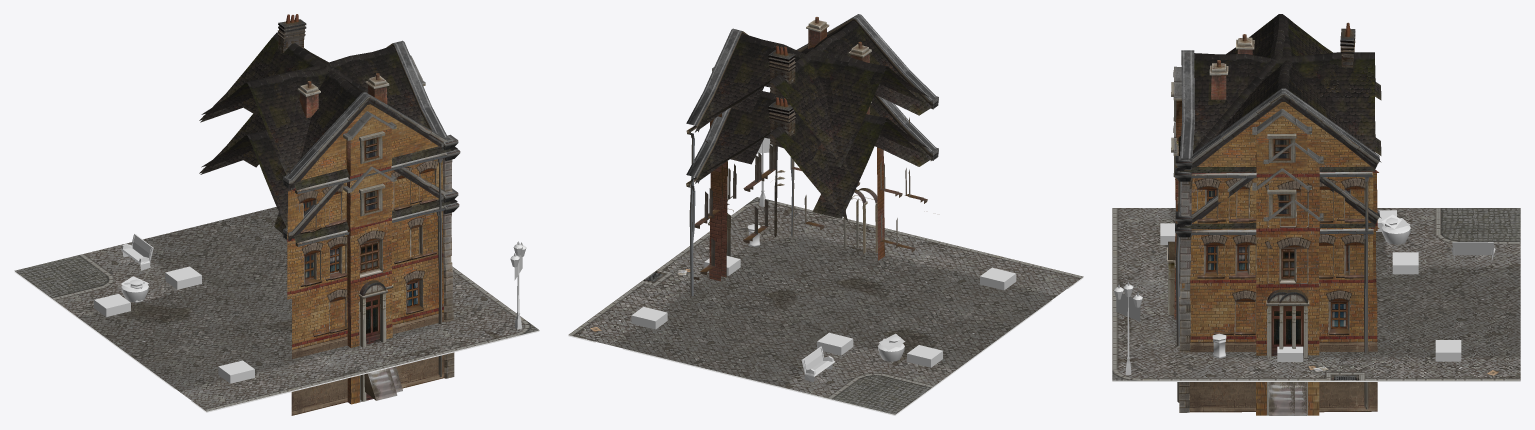
The model's file is worker_scraper_corner.gltf.
3 views of the same model, side by side, from view 1: azimuth 30°, elevation 25°; view 2: azimuth 150°, elevation 25°; view 3: azimuth 270°, elevation 25° (orthographic). The views are drawn at different scales.
Parts seen in each view (by area): view 1: ground, _var2_3f_lod0, _var1_2f_lod0, _var2_2f_lod0, _var1_3f_lod0, prop_bench1, fc_feedback_door_4, fc_feedback_door_0, fc_feedback_door_3, FeedbackBlocker.002, prop_lightpost1, prop_flowerpot; view 2: ground, _var2_3f_lod0, _var2_2f_lod0, _var1_2f_lod0, _var1_3f_lod0, prop_bench1, UnevenBlocker, fc_feedback_door_3, fc_feedback_door_2, fc_feedback_door_4, fc_feedback_door_0, prop_flowerpot; view 3: ground, _var2_3f_lod0, _var2_2f_lod0, _var1_2f_lod0, _var1_3f_lod0, prop_lightpost1, FeedbackBlocker, fc_feedback_door_0, prop_bench1, prop_flowerpot, fc_feedback_door_2, fc_feedback_door_1.
Part boxes in pixels (box(x1,y1,x2,y2)): ground: box(14, 207, 539, 411); _var2_3f_lod0: box(200, 14, 458, 246); _var1_2f_lod0: box(199, 112, 459, 415); _var2_2f_lod0: box(200, 130, 458, 404); _var1_3f_lod0: box(199, 26, 460, 377); prop_bench1: box(120, 233, 153, 270); fc_feedback_door_4: box(94, 294, 130, 316); fc_feedback_door_0: box(165, 266, 201, 289); fc_feedback_door_3: box(218, 360, 254, 383); FeedbackBlocker.002: box(191, 337, 511, 412); prop_lightpost1: box(510, 241, 526, 329); prop_flowerpot: box(121, 276, 148, 302); ground: box(568, 197, 1083, 414); _var2_3f_lod0: box(686, 14, 938, 186); _var2_2f_lod0: box(686, 91, 938, 280); _var1_2f_lod0: box(686, 101, 931, 290); _var1_3f_lod0: box(686, 41, 928, 296); prop_bench1: box(801, 346, 834, 382); UnevenBlocker: box(623, 300, 1051, 415); fc_feedback_door_3: box(980, 267, 1016, 290); fc_feedback_door_2: box(631, 306, 667, 329); fc_feedback_door_4: box(907, 345, 942, 367); fc_feedback_door_0: box(817, 332, 853, 355); prop_flowerpot: box(878, 333, 905, 361); ground: box(1112, 208, 1520, 380); _var2_3f_lod0: box(1171, 19, 1381, 237); _var2_2f_lod0: box(1167, 122, 1381, 415); _var1_2f_lod0: box(1174, 121, 1376, 415); _var1_3f_lod0: box(1175, 14, 1377, 409); prop_lightpost1: box(1114, 281, 1142, 374); FeedbackBlocker: box(1112, 380, 1520, 381); fc_feedback_door_0: box(1392, 252, 1418, 274); prop_bench1: box(1451, 242, 1495, 262); prop_flowerpot: box(1381, 214, 1410, 244); fc_feedback_door_2: box(1435, 340, 1461, 361); fc_feedback_door_1: box(1277, 346, 1303, 361).
Size of what is drawn, in the model's own units: 3 by 2.79 by 3.
Materials: 3 (3 with a texture image).
